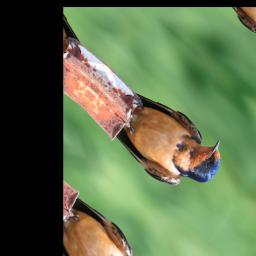Swallow: (101, 69, 231, 214)
